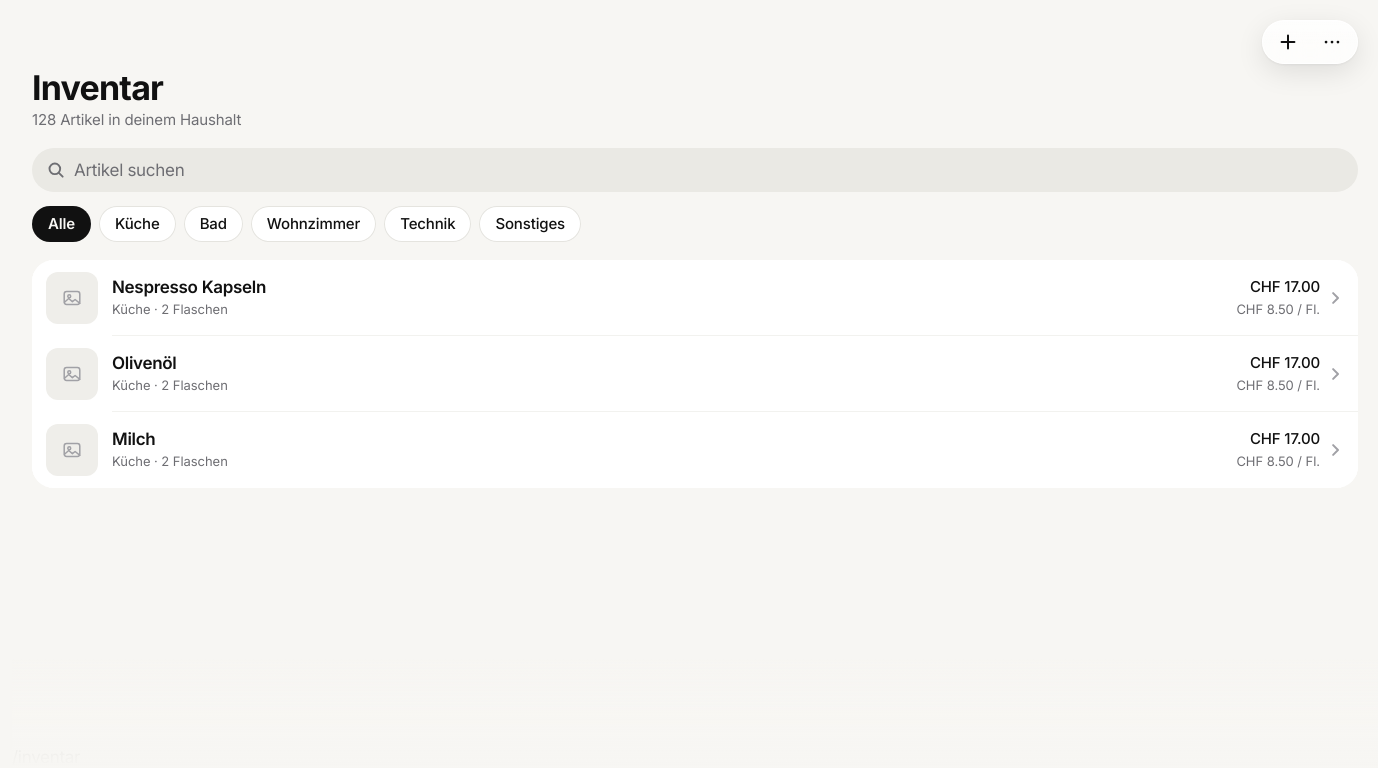
Test: InventoryPage search › searches on the server 250 ms after the last keystroke and shows the hit count (design 17)
The image size is (1378, 768).
Check: the text "128 Artikel in deinem Haushalt" is shown, box [32,110,241,129]
Type "O" into the search field labelled "Artikel suchen" at (709, 170), box [74,148,1344,192]
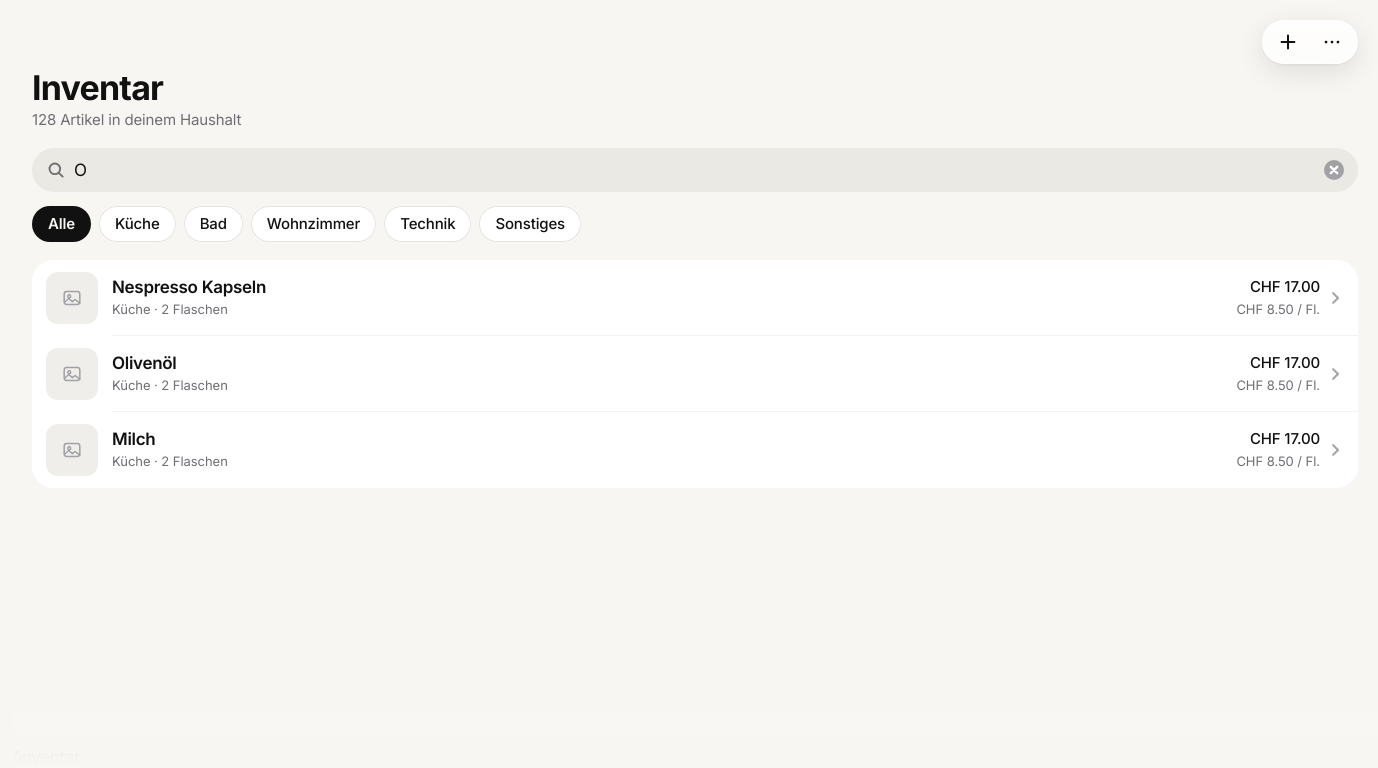
Replace the text in the search field named "Artikel suchen" with "Ol" at (691, 170), box [74,148,1308,192]
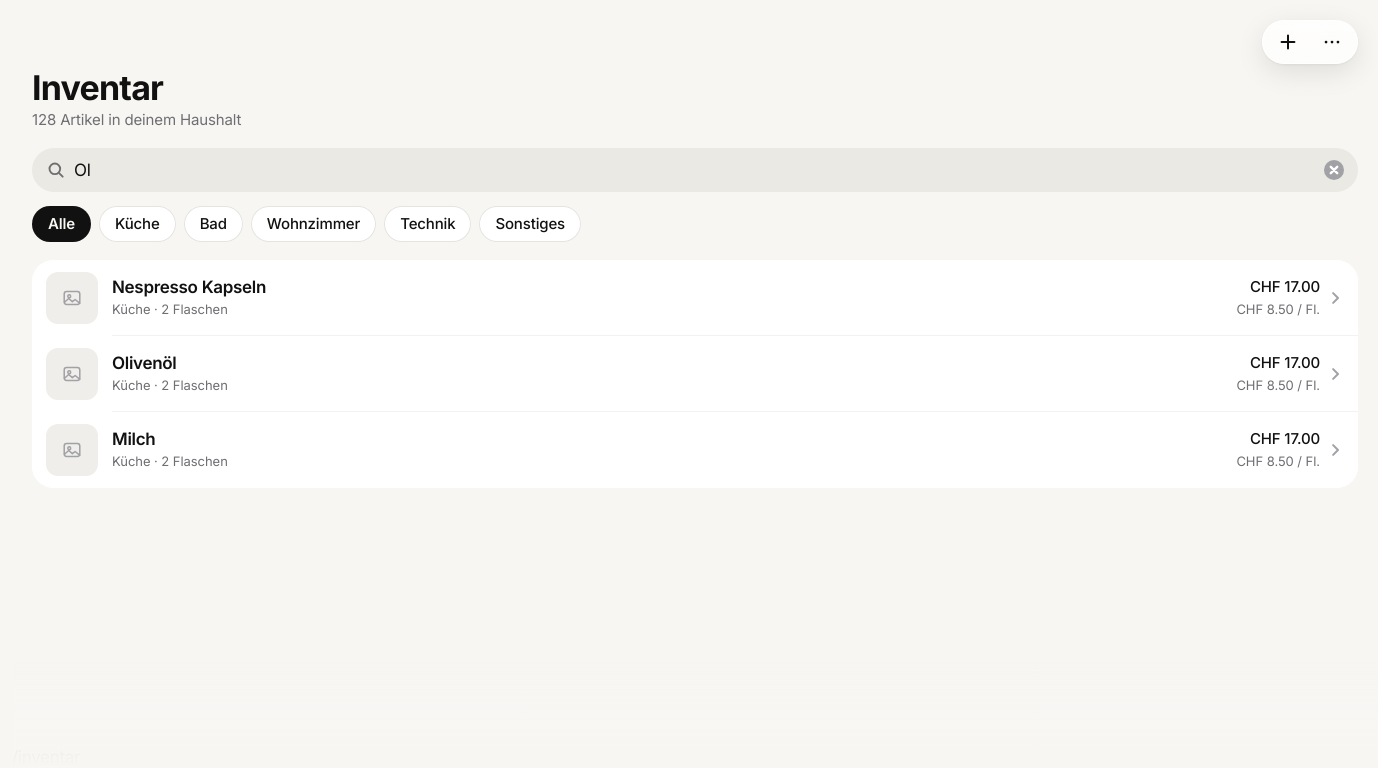
Replace the text in the search field named "Artikel suchen" with "Oli" at (691, 170), box [74,148,1308,192]
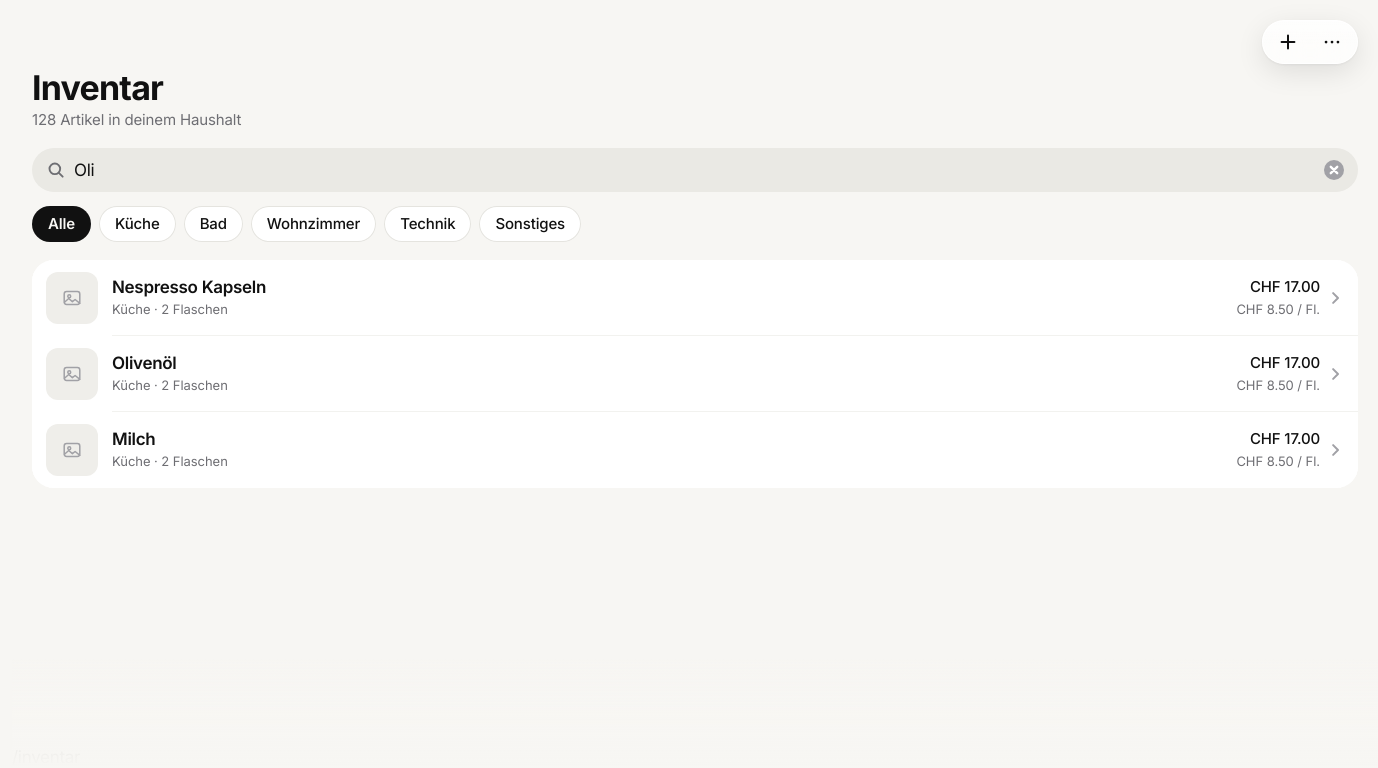
Replace the text in the search field named "Artikel suchen" with "Oliv" at (691, 170), box [74,148,1308,192]
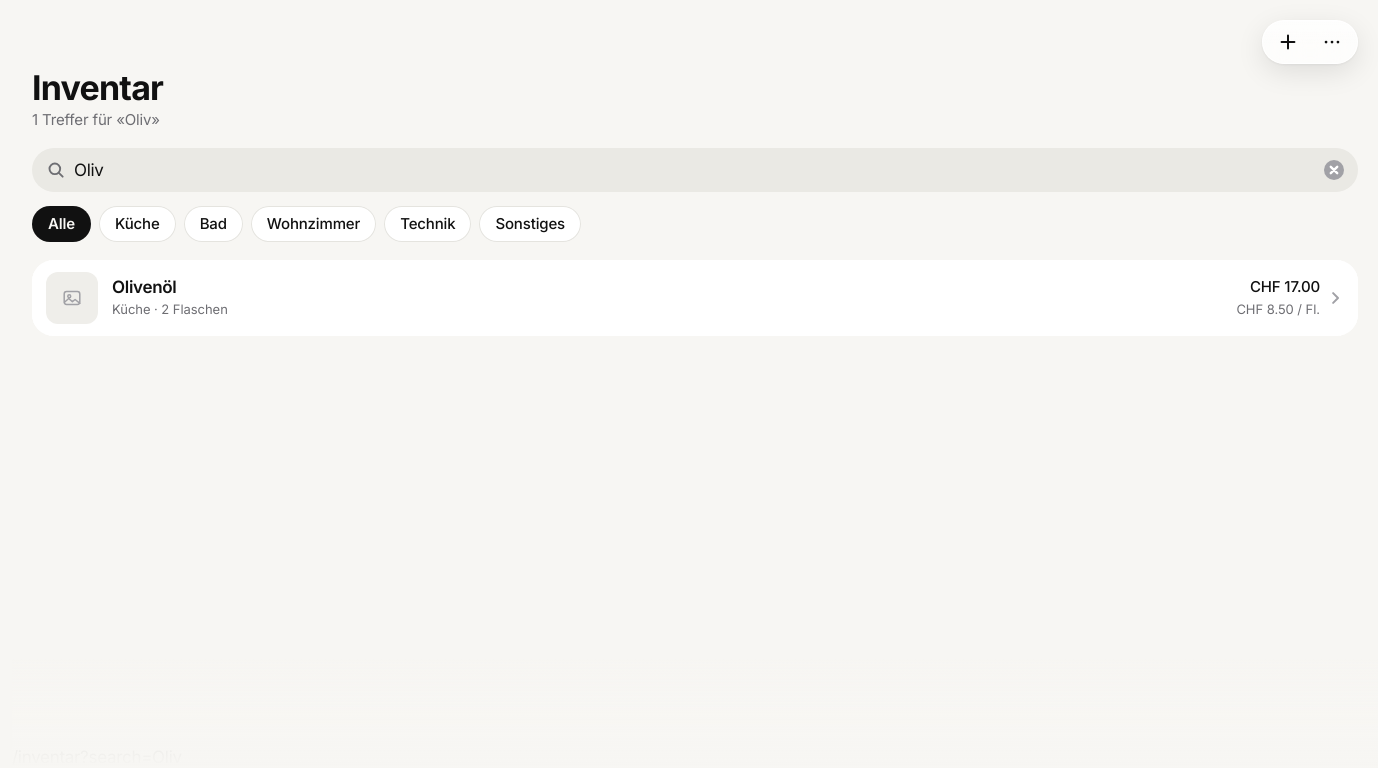
Check: the text "1 Treffer für «Oliv»" is shown, box [32,110,160,129]
Check: the link "Milch" is gone
Click the button named "Suchbegriff löschen" at (1334, 170), box [1312,148,1356,192]
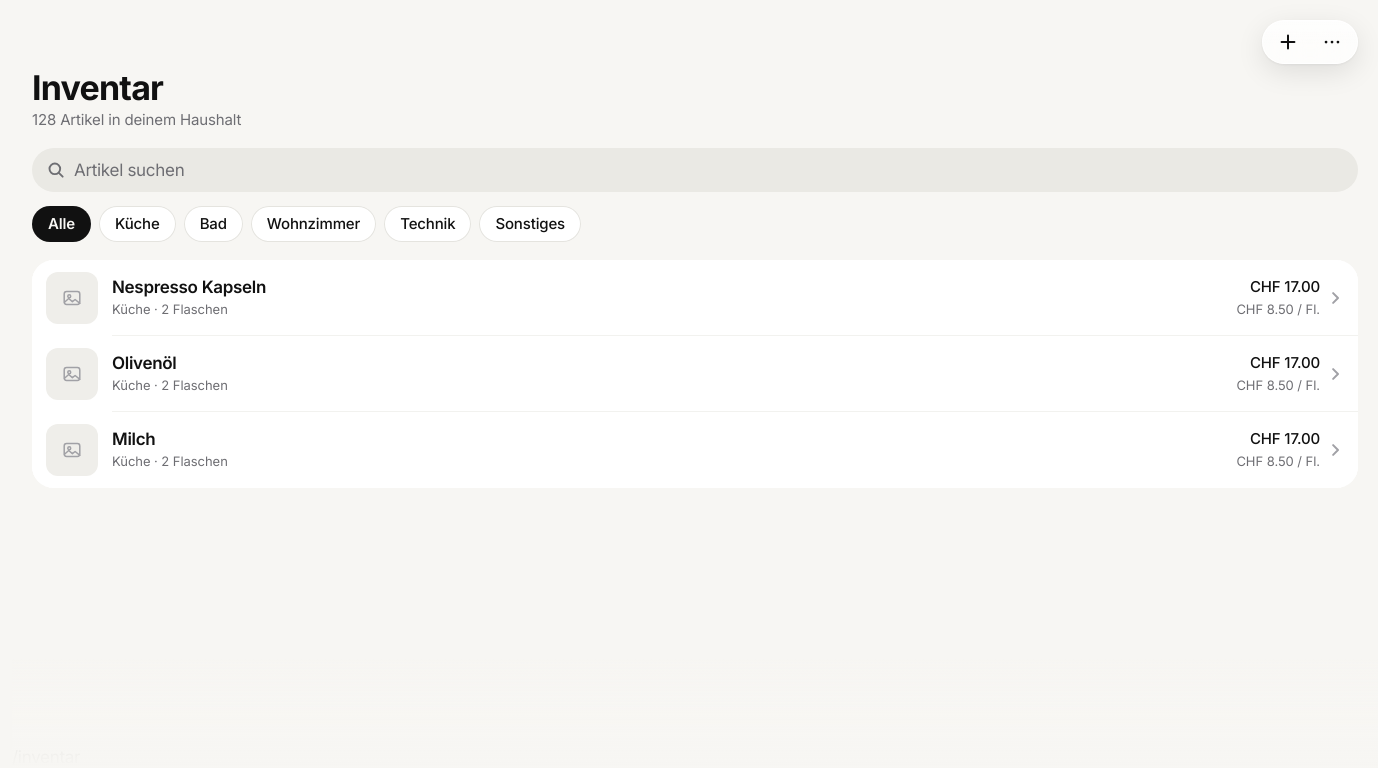
Check: the text "128 Artikel in deinem Haushalt" is shown, box [32,110,241,129]
